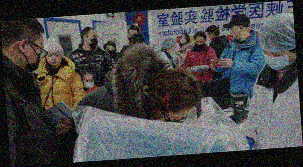with_mask: (262, 46, 291, 71), (22, 42, 46, 72), (82, 76, 96, 90), (86, 33, 99, 48), (194, 39, 206, 50), (105, 46, 117, 57), (127, 32, 139, 43), (168, 45, 178, 57), (206, 33, 213, 43)
without_mask: (45, 53, 62, 67), (229, 26, 240, 40), (179, 36, 187, 45)
